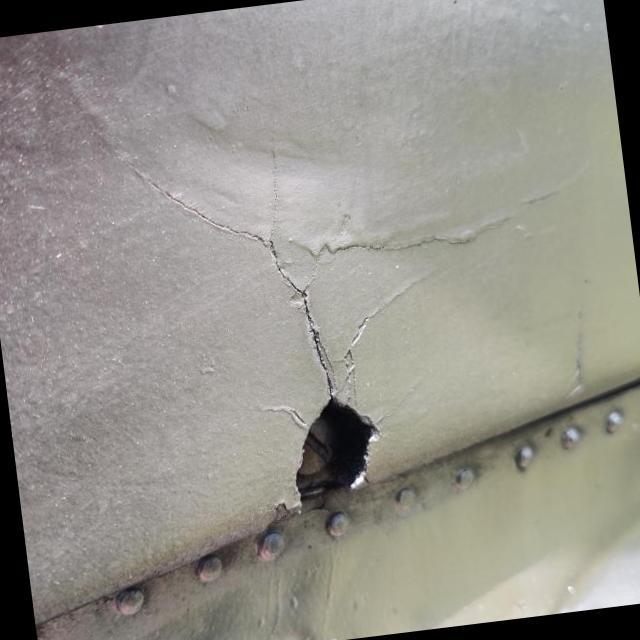Rupture: (136, 127, 466, 550)
